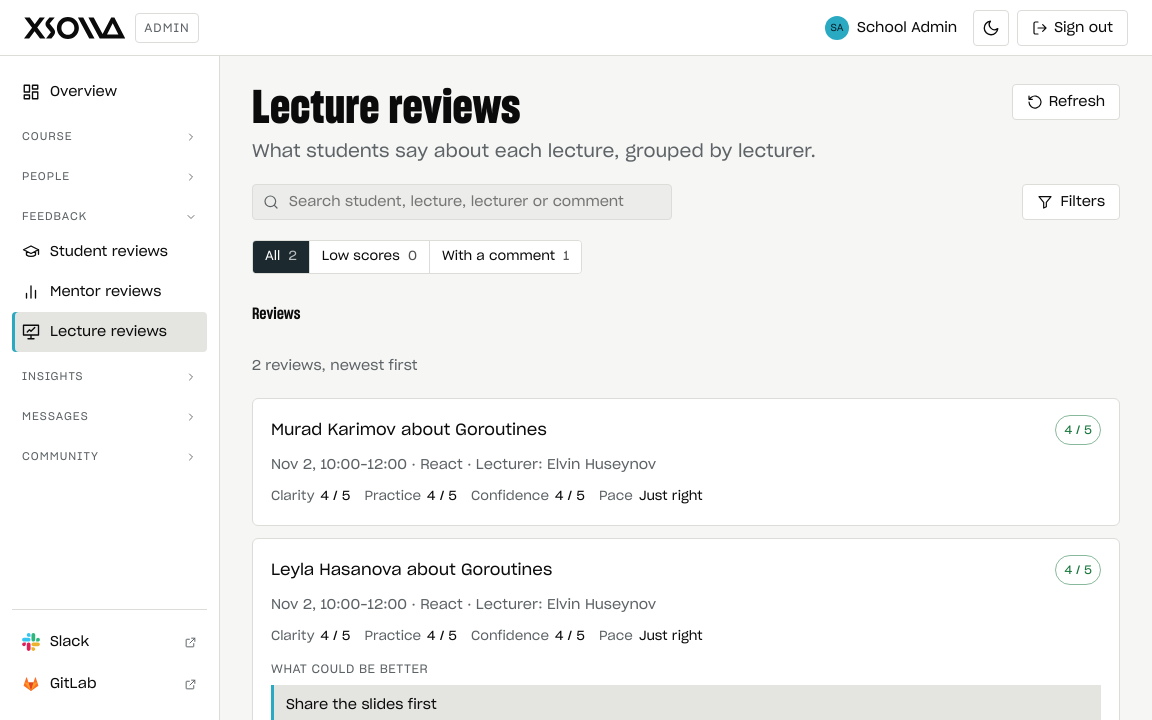
Test: Admin: lecture reviews › searches students, lectures, lecturers and comments; says so when nothing matches
In the search field named "Search lecture reviews": (474,202) 287,185 -> 661,219, type "slides first"
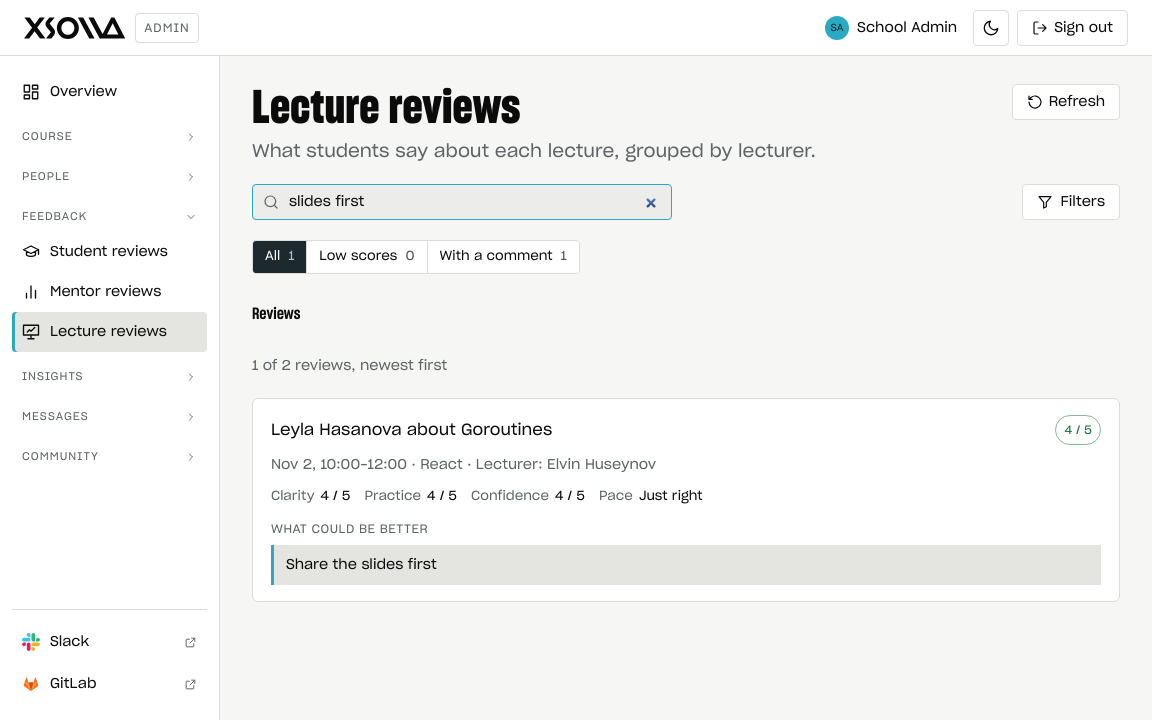
Replace the text in the search field named "Search lecture reviews" with "elvin": (474,202) 287,185 -> 661,219
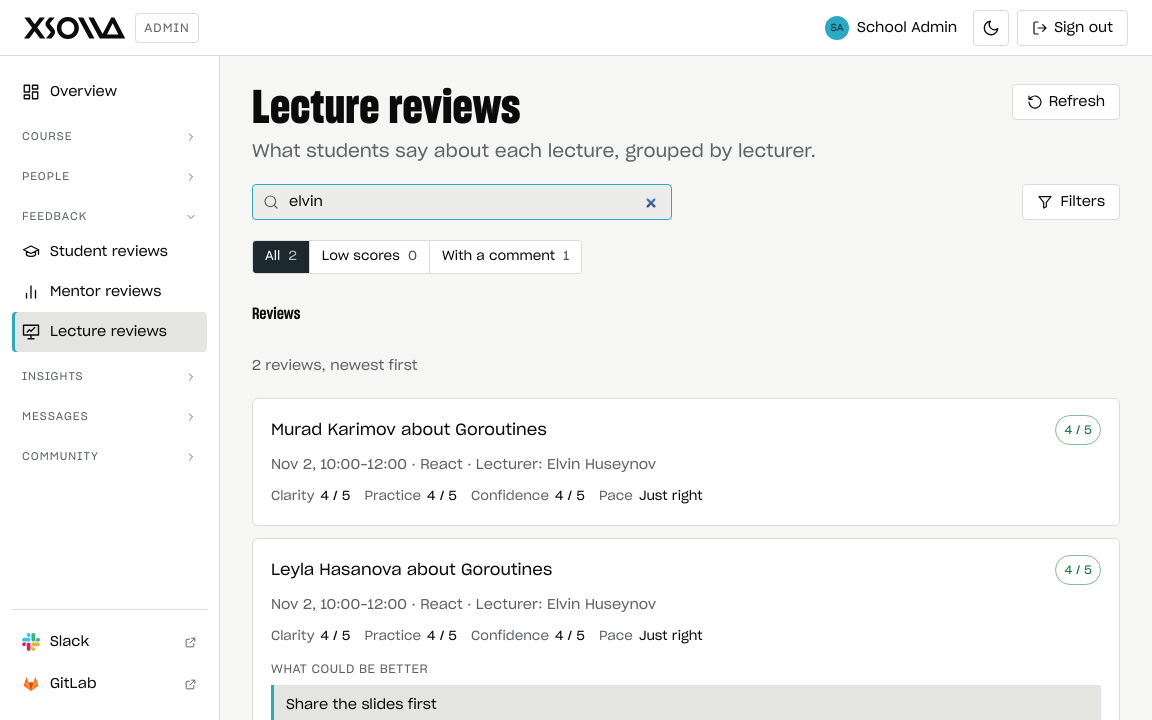
Replace the text in the search field named "Search lecture reviews" with "zzz": (474,202) 287,185 -> 661,219
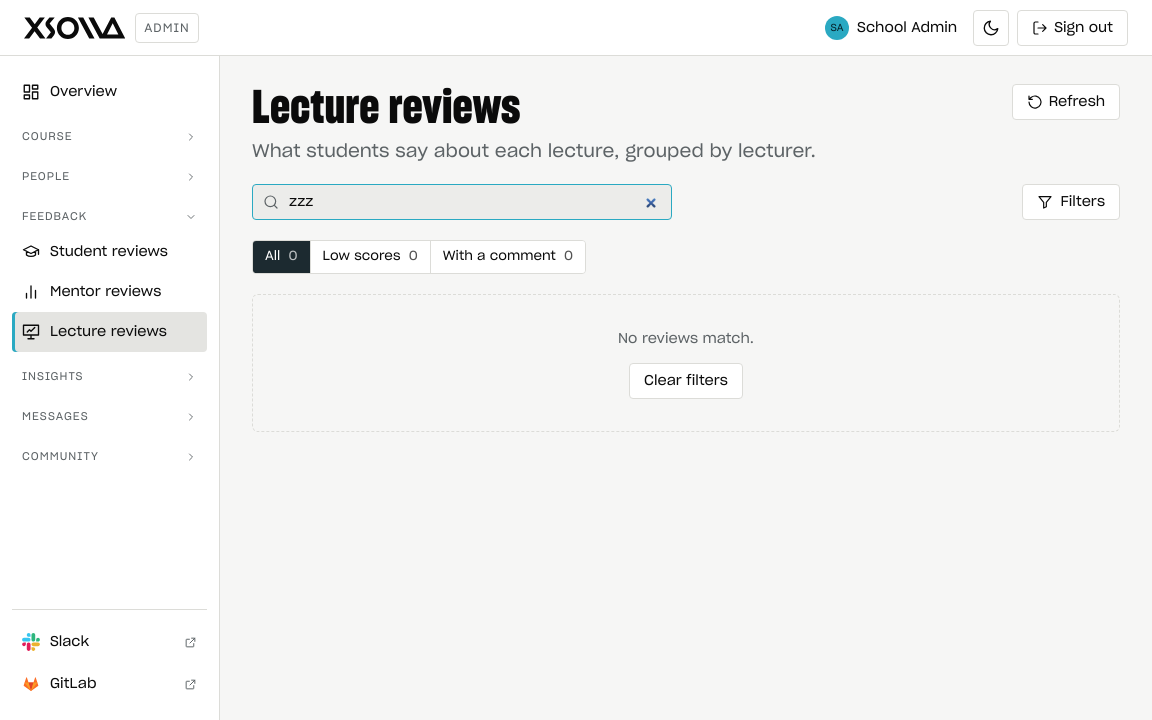
Result: the text "No reviews match." is shown at 618,332 -> 754,346
